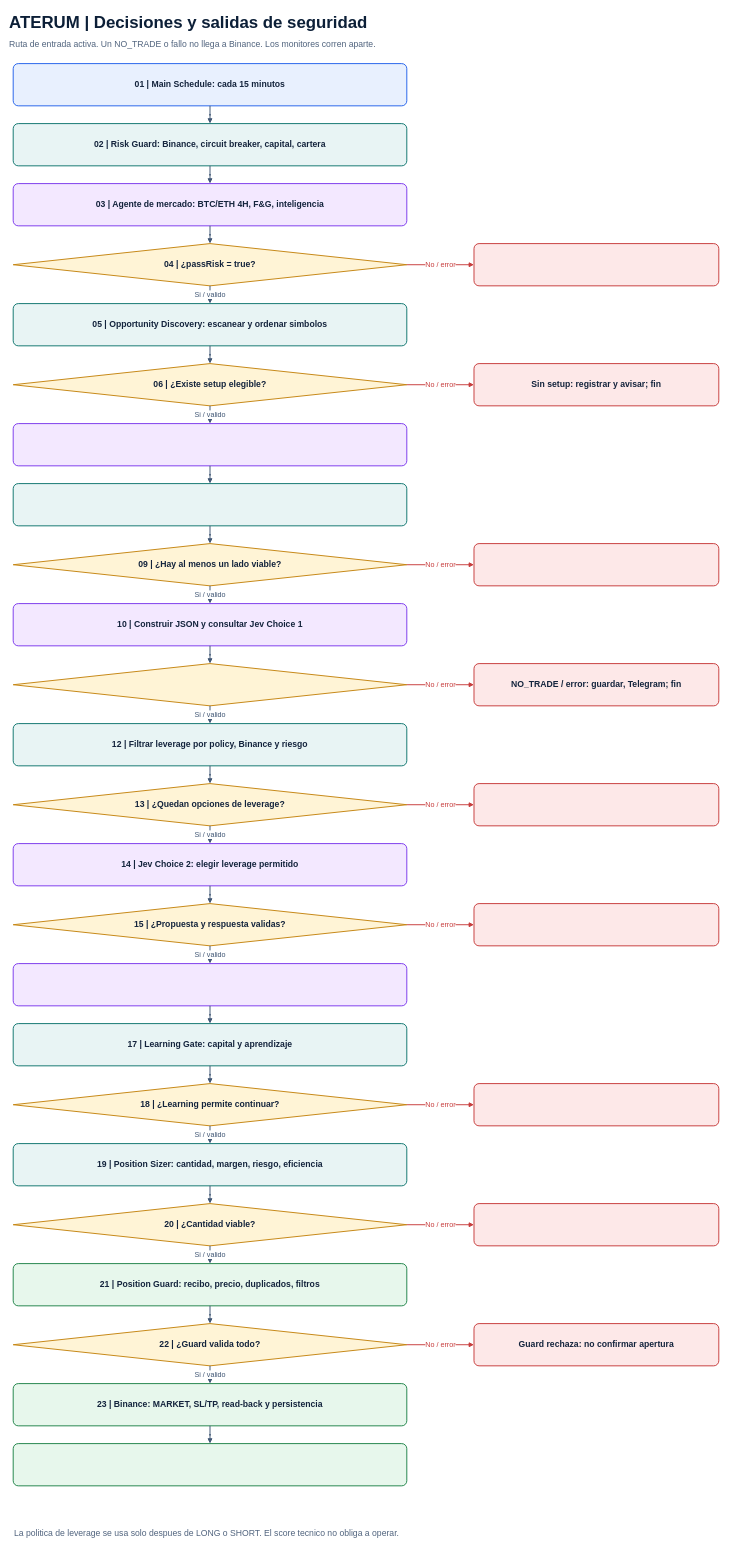
Some shapes in this 736 by 1551 pixel diagram are drawn without their labels. The shapes that lost their labels are listed below. From the top down, each one's centre as x and y in pixels, then its label:
At point 596,264: "Riesgo o capital bloqueado: Telegram y fin".
At point 209,444: "07 | Jev Entry Gate: ID unico ciclo + simbolo".
At point 209,504: "08 | Preflight: vigencia, Binance, precio, margen y SL viables".
At point 596,564: "Preflight rechazado: 0 tokens Jev; fin".
At point 209,684: "11 | ¿Jev eligio LONG o SHORT valido?".
At point 596,804: "Sin leverage seguro: rechazar; fin".
At point 596,924: "Respuesta invalida / timeout: rechazar; fin".
At point 209,984: "16 | Guardar decision; Telegram: propuesta, no orden".
At point 596,1104: "Capital o learning bloquea: registrar; fin".
At point 596,1224: "Tamano insuficiente: no llamar al ejecutor".
At point 209,1464: "24 | Confirmacion Binance + Telegram; seguimiento aparte".
